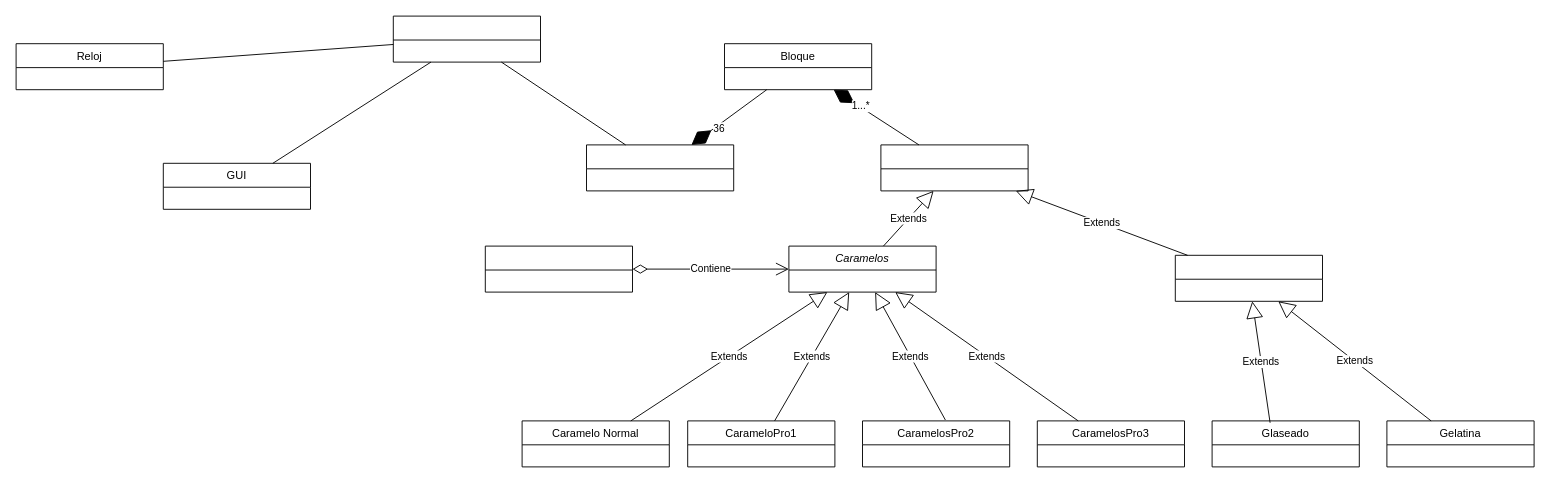
This 1550x483 diagram has some shape labels left out. Each missing label, with the box of its shape:
Color: (484, 245, 632, 292)
entidad: (880, 144, 1028, 191)
Logica: (392, 15, 540, 62)
Obstaculo: (1174, 254, 1322, 301)
Tablero: (586, 144, 734, 191)
